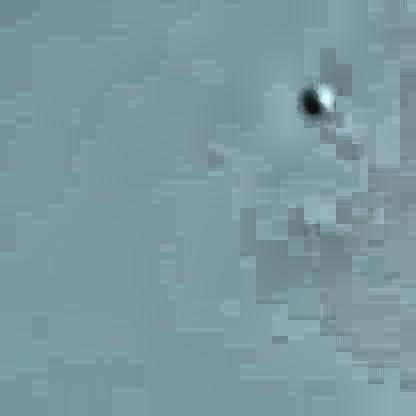golfball: (299, 77, 329, 113)
